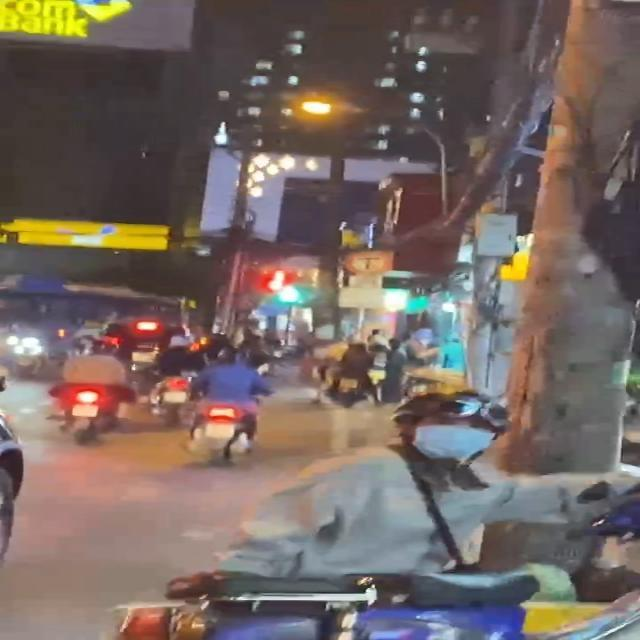137-cam-re-trai-va-re-phai: (343, 246, 395, 274)
